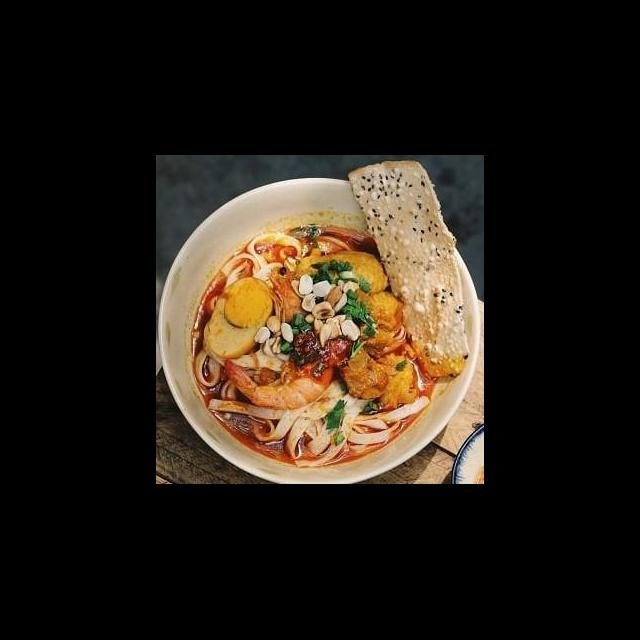banh da: (345, 158, 472, 382)
ca: (338, 347, 421, 412), (291, 248, 393, 300), (349, 287, 409, 353)
mi: (205, 376, 432, 472), (192, 344, 292, 406), (217, 230, 306, 296)
tom: (220, 264, 340, 412)
trung: (201, 274, 276, 359)
